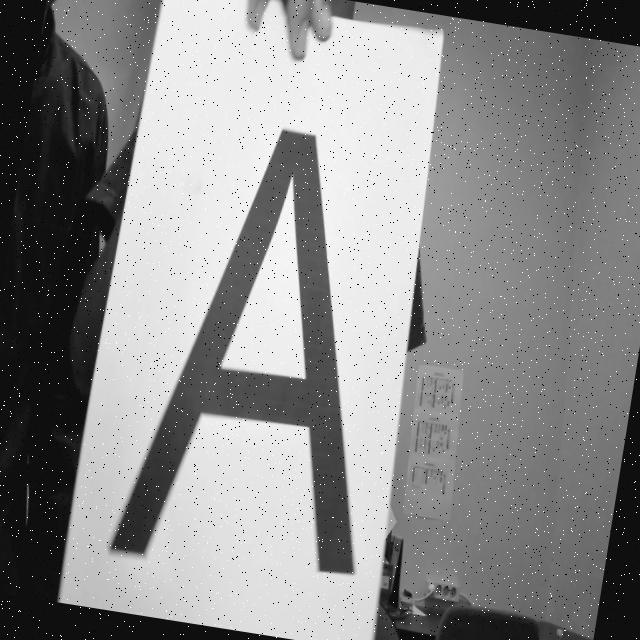a: (90, 82, 444, 625)
